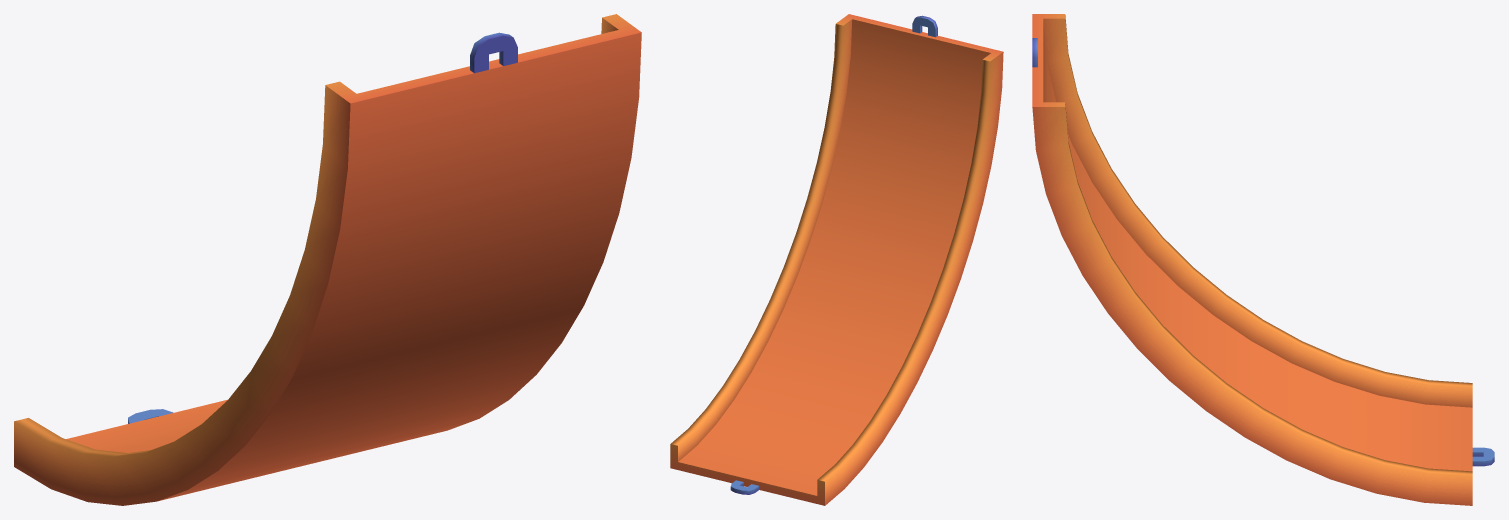
The model's file is track-wide-straight-bend-large.glb.
3 views of the same model, side by side, from view 1: azimuth 30°, elevation 25°; view 2: azimuth 150°, elevation 25°; view 3: azimuth 270°, elevation 25° (orthographic). The views are drawn at different scales.
Parts seen in each view (by area): view 1: track-wide-straight-bend-large; view 2: track-wide-straight-bend-large; view 3: track-wide-straight-bend-large.
Part boxes in pixels (x1=…): track-wide-straight-bend-large: x1=14, y1=14, x2=641, y2=505; track-wide-straight-bend-large: x1=670, y1=14, x2=1003, y2=505; track-wide-straight-bend-large: x1=1032, y1=14, x2=1494, y2=505.
Bounding box in the file's own units: 6 × 12.6 × 12.6.
1 material, 1 textured.
